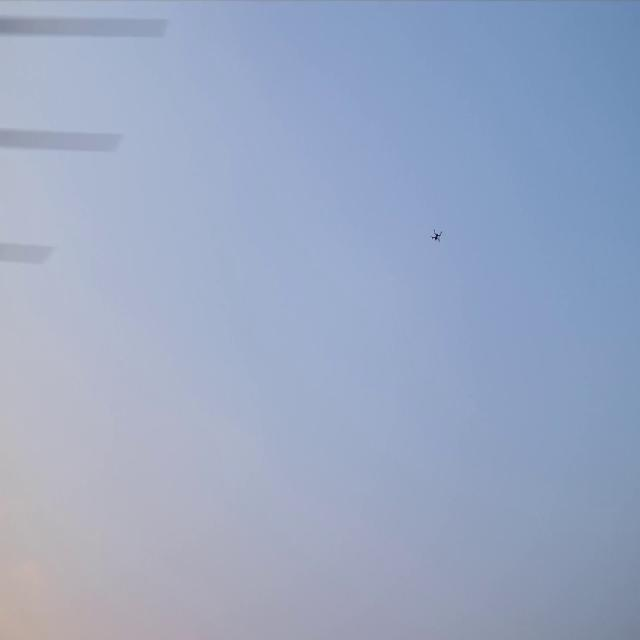UAV: (430, 228, 442, 245)
